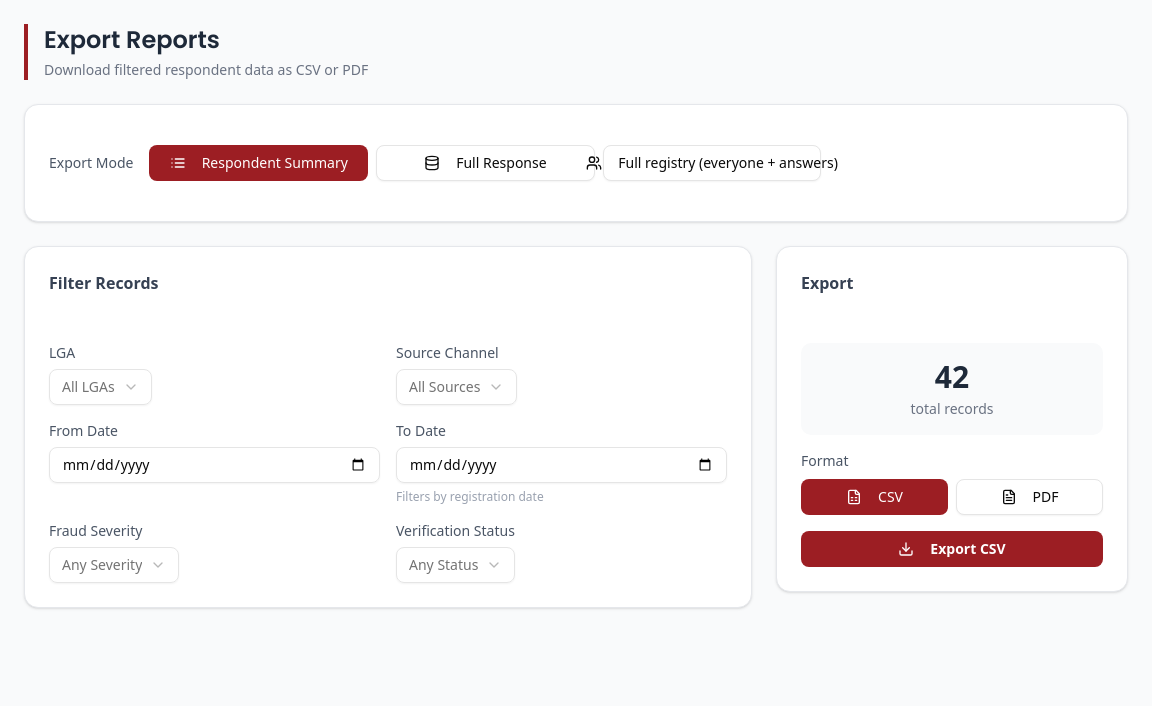
Test: ExportPage › shows the form selector + explainer in unified mode
What coordinates should you click on to do the following:
click the button with test id "mode-unified"
I would click on:
 (712, 163)
Its box is left=603, top=145, right=822, bottom=181.
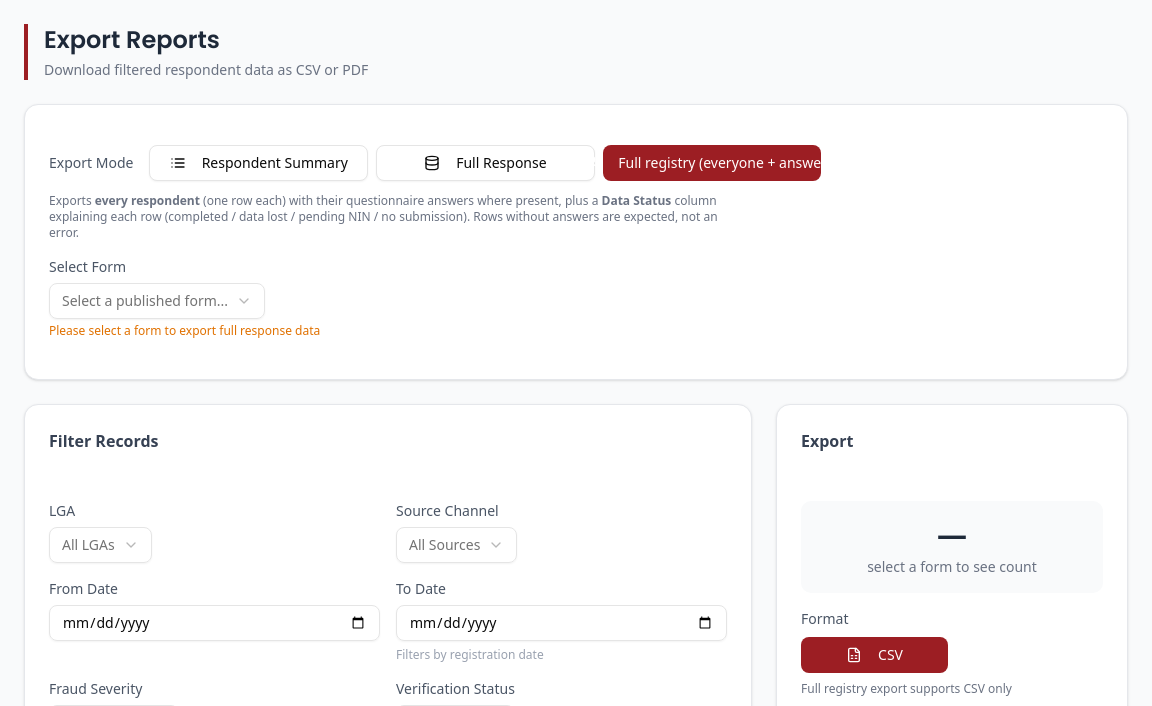
Expected: the element with test id "form-selector-container" is shown, left=49, top=257, right=320, bottom=339
Expected: the element with test id "unified-explainer" is shown, left=49, top=193, right=721, bottom=241
Expected: the element with test id "unified-explainer" shows "Data Status", left=602, top=192, right=671, bottom=209
